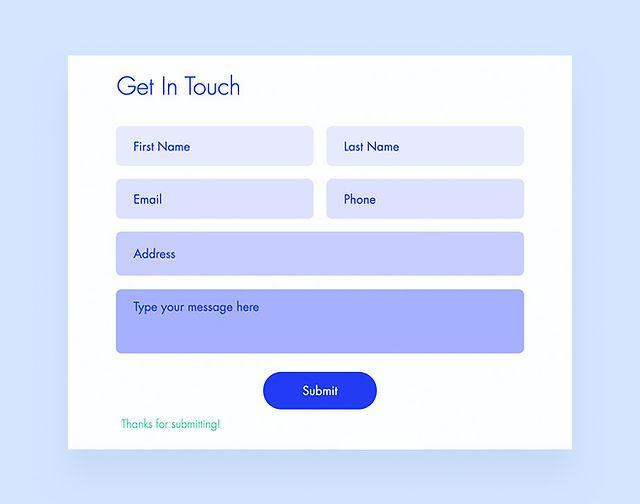button: (264, 373, 380, 411)
input: (116, 289, 525, 355), (117, 233, 526, 276), (327, 126, 522, 168), (116, 126, 316, 166), (117, 178, 315, 218), (328, 179, 525, 219)
label: (105, 67, 250, 110), (118, 415, 225, 436)
